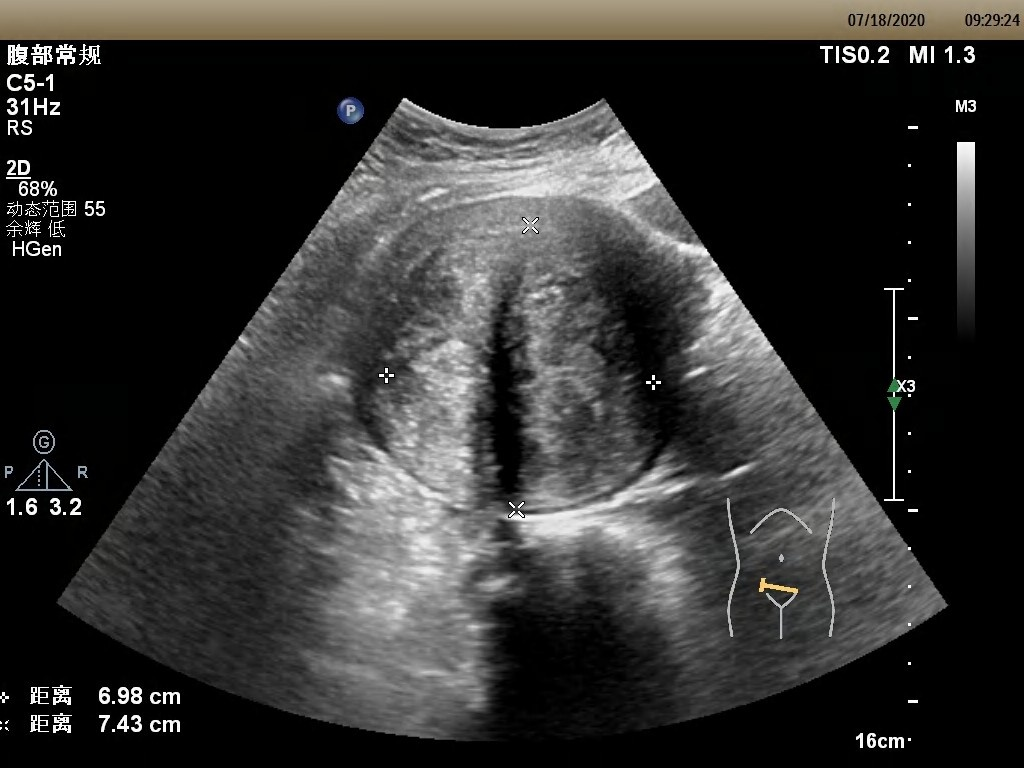肌瘤: (389, 222, 654, 512)
